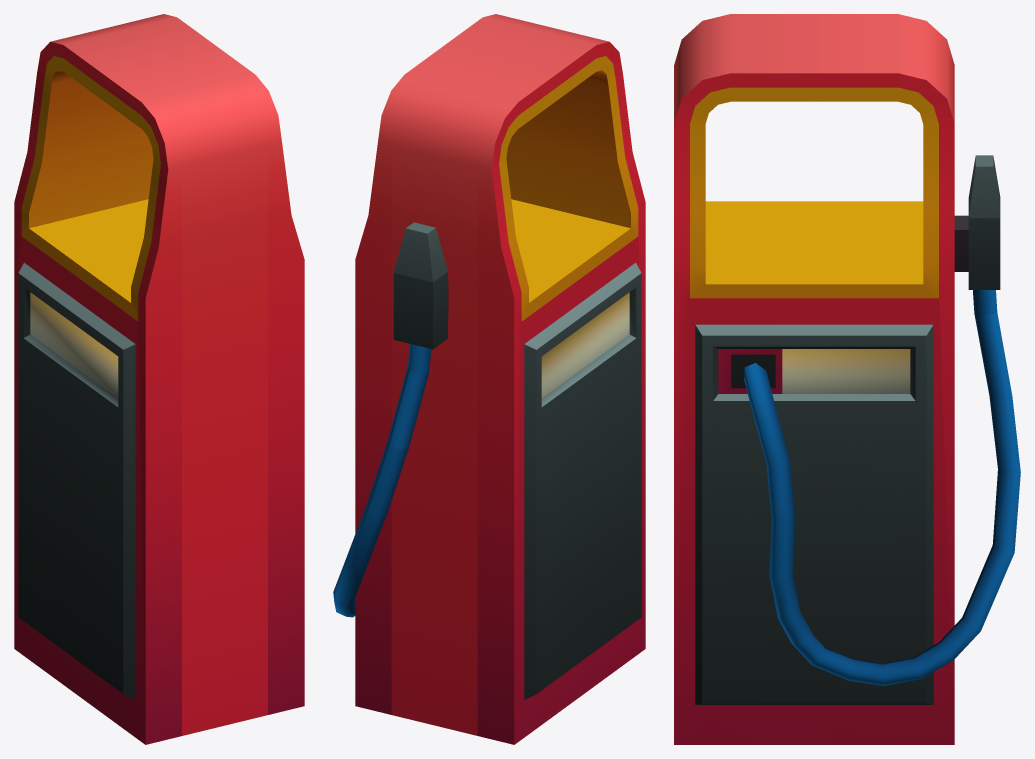
Rendered from Gas_Pump_1A.fbx.
The picture shows the model from 3 angles, left to right: view 1: azimuth 30°, elevation 25°; view 2: azimuth 150°, elevation 25°; view 3: azimuth 270°, elevation 25°; orthographic projection. The views are drawn at different scales.
Visible parts, largest first — view 1: Gas_Pump_1A; view 2: Gas_Pump_1A; view 3: Gas_Pump_1A.
Boxes of the visible parts, x1,y1,x2,y2 form: Gas_Pump_1A: (14, 14, 304, 744); Gas_Pump_1A: (333, 14, 645, 744); Gas_Pump_1A: (674, 14, 1020, 744).
Bounding box in the file's own units: 93.05 × 260 × 124.
